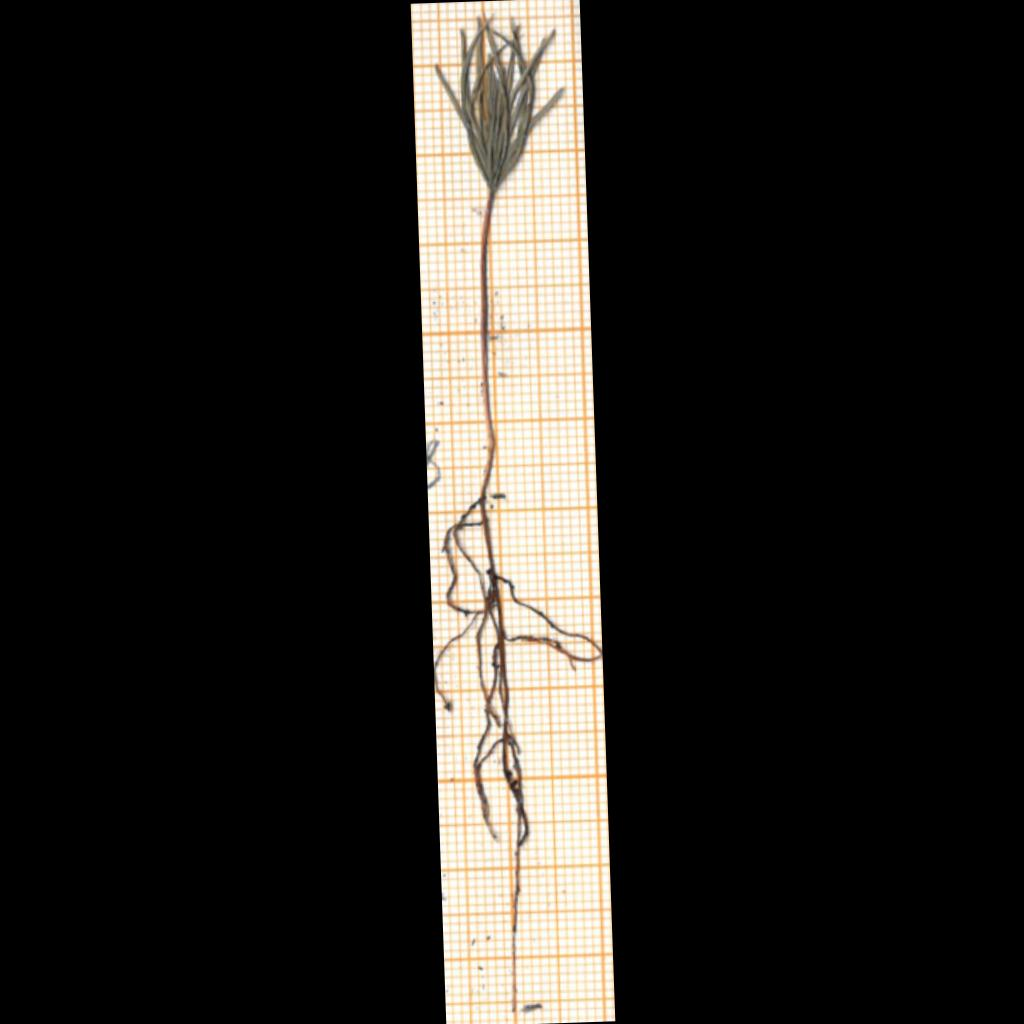flowerPinus: (436, 19, 550, 193)
rootPinus: (444, 499, 602, 1012)
stemPinus: (481, 194, 495, 502)
